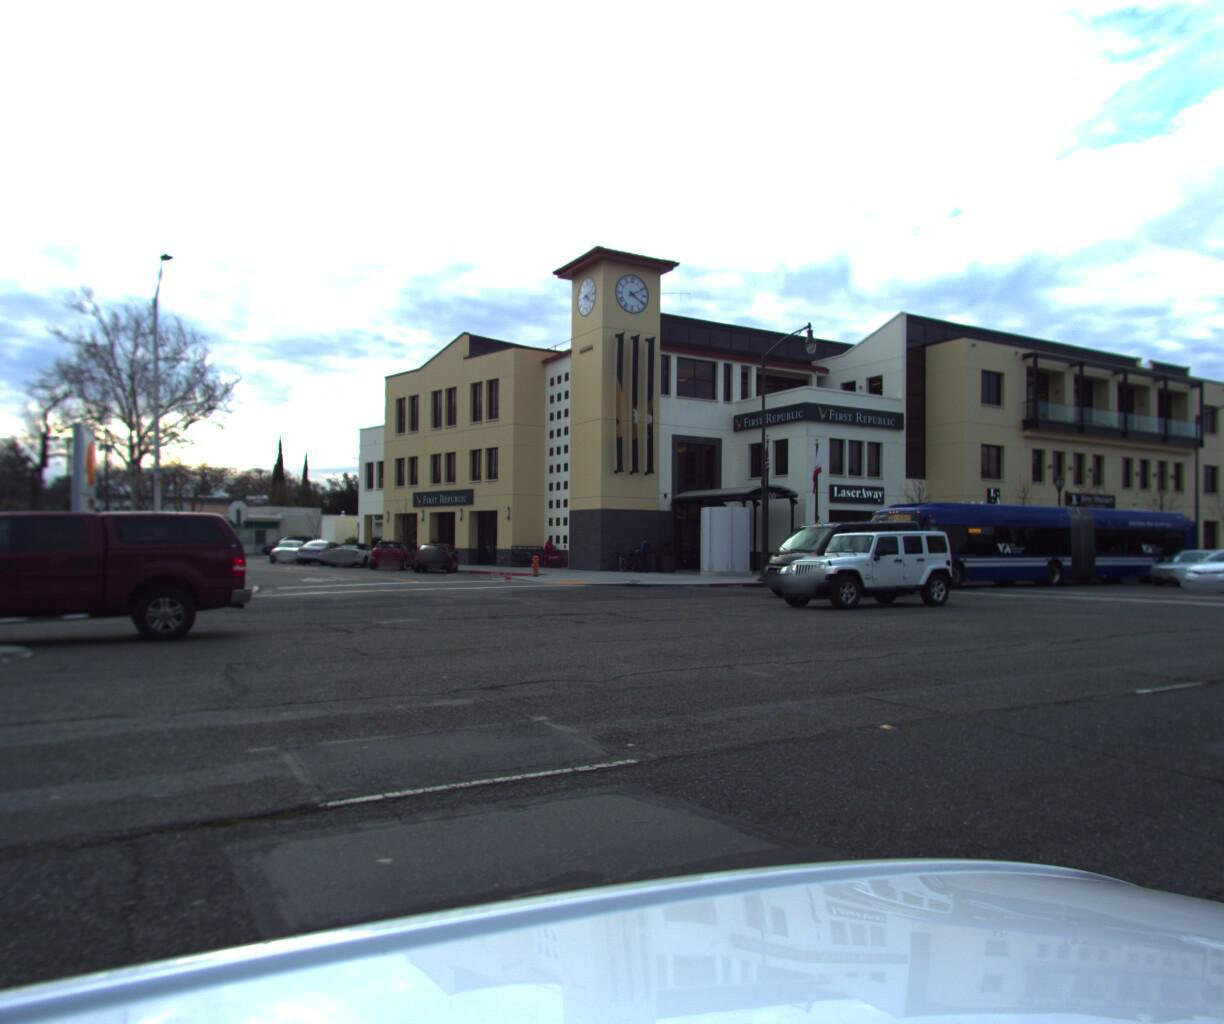bus: (850, 496, 1207, 591)
car: (0, 500, 258, 663), (764, 521, 964, 611), (755, 514, 925, 598), (1137, 547, 1224, 586), (1168, 544, 1224, 592), (411, 537, 460, 574), (326, 538, 384, 568), (368, 537, 420, 570), (297, 537, 352, 564), (269, 541, 323, 564)
